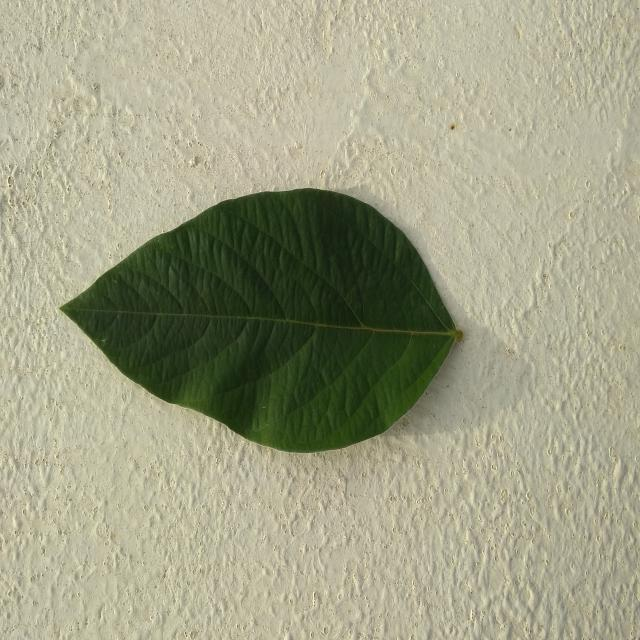leaf: (58, 186, 463, 453)
